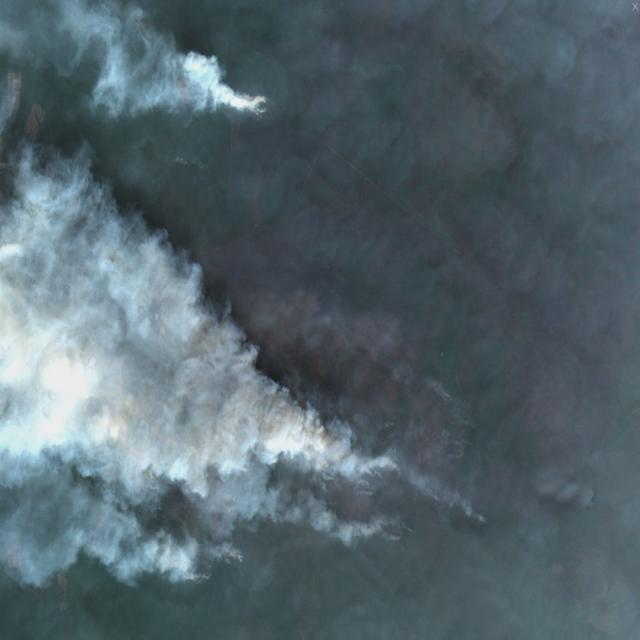fire: (316, 429, 417, 549), (242, 83, 273, 123)
